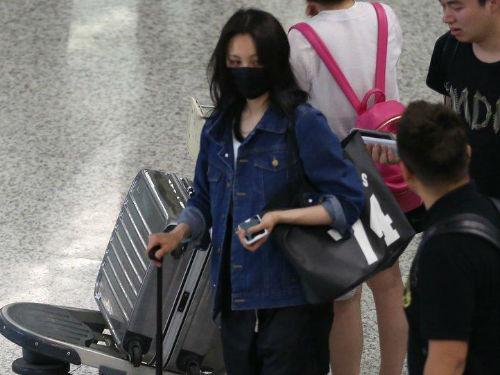NONE: (440, 4, 487, 45)
OK: (228, 50, 279, 101)
